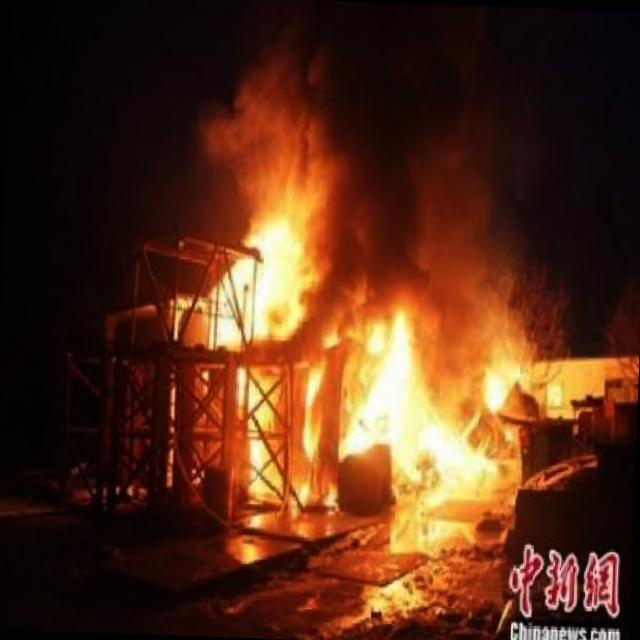Fire_Dangerous: (184, 74, 547, 519)
